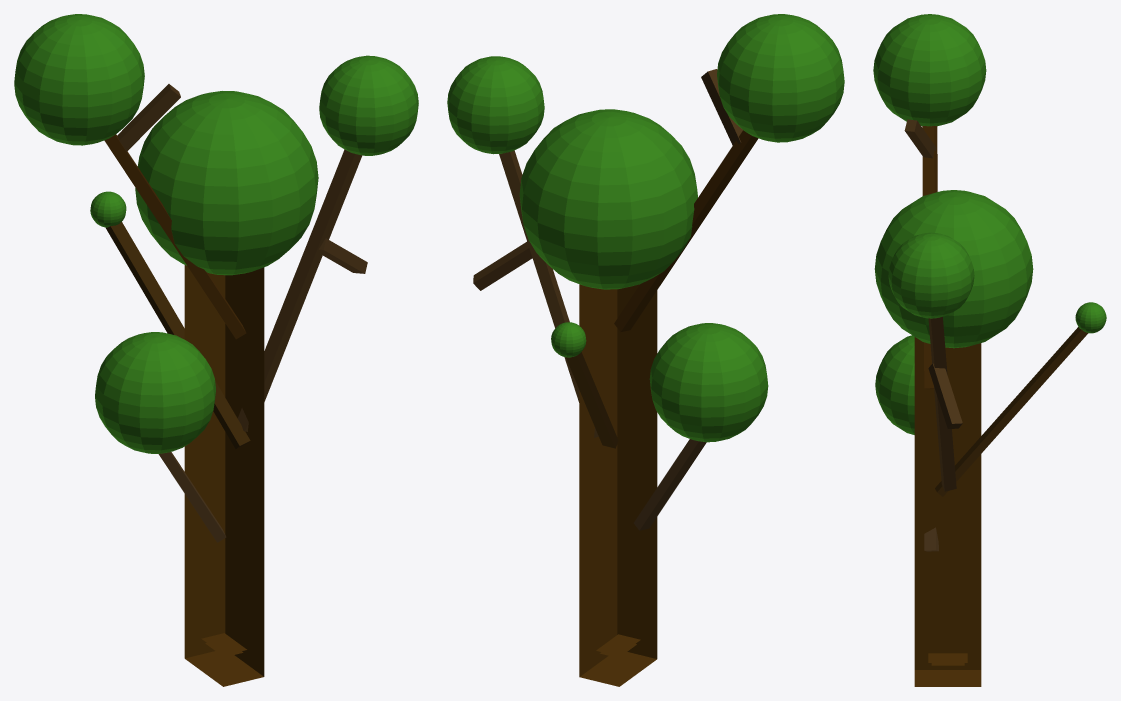
The model's file is Baum im Wachstum.fbx.
The picture shows the model from 3 angles, left to right: view 1: azimuth 30°, elevation 25°; view 2: azimuth 150°, elevation 25°; view 3: azimuth 270°, elevation 25°; orthographic projection. The views are drawn at different scales.
Parts seen in each view (by area): view 1: Cube, Kugel.002, Kugel.001, Kugel.004, Kugel, Würfel, Würfel.002, Würfel.001, Würfel.006, Würfel.003, Kugel.003, Würfel.004; view 2: Cube, Kugel.002, Kugel.001, Kugel.004, Kugel, Würfel.001, Würfel, Würfel.003, Würfel.002, Würfel.004, Kugel.003, Würfel.006; view 3: Cube, Kugel.002, Kugel.001, Kugel, Kugel.004, Würfel.002, Würfel, Würfel.001, Würfel.004, Kugel.003, Würfel.006.
Boxes of the visible parts, <box> form: Cube: <box>184,265,264,686</box>; Kugel.002: <box>135,91,318,275</box>; Kugel.001: <box>14,14,144,145</box>; Kugel.004: <box>95,332,215,453</box>; Kugel: <box>319,55,418,155</box>; Würfel: <box>237,149,362,431</box>; Würfel.002: <box>105,222,250,448</box>; Würfel.001: <box>104,134,246,339</box>; Würfel.006: <box>117,84,180,151</box>; Würfel.003: <box>158,452,226,542</box>; Kugel.003: <box>90,191,126,227</box>; Würfel.004: <box>319,238,367,273</box>; Cube: <box>579,284,657,686</box>; Kugel.002: <box>519,109,697,289</box>; Kugel.001: <box>717,14,844,142</box>; Kugel.004: <box>649,323,768,442</box>; Kugel: <box>447,56,544,154</box>; Würfel.001: <box>614,130,758,331</box>; Würfel: <box>499,150,598,437</box>; Würfel.003: <box>634,439,706,530</box>; Würfel.002: <box>566,352,618,448</box>; Würfel.004: <box>473,241,532,290</box>; Kugel.003: <box>551,322,586,357</box>; Würfel.006: <box>701,69,742,145</box>; Cube: <box>914,337,981,686</box>; Kugel.002: <box>874,190,1033,348</box>; Kugel.001: <box>873,14,986,126</box>; Kugel: <box>888,232,974,318</box>; Kugel.004: <box>875,335,914,434</box>; Würfel.002: <box>935,327,1088,496</box>; Würfel: <box>928,317,956,491</box>; Würfel.001: <box>922,126,937,389</box>; Würfel.004: <box>928,363,962,428</box>; Kugel.003: <box>1075,302,1106,333</box>; Würfel.006: <box>904,119,936,158</box>.
Size of the model in its own units: 70.23 by 119 by 42.34.
